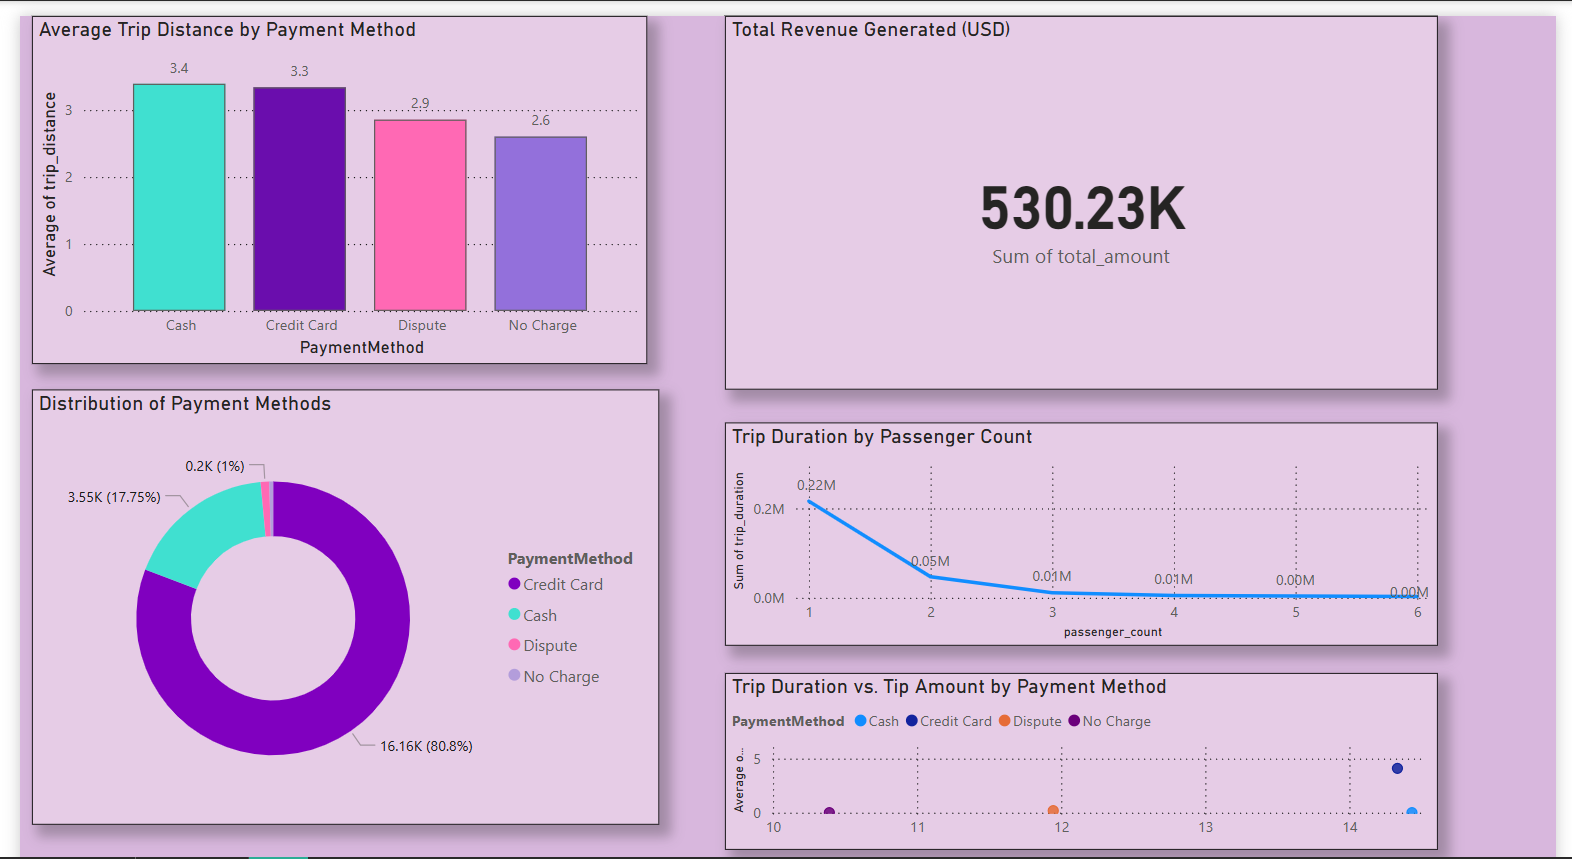

The page's visual inventory and layout, read from the dashboard file:
{"tool":"powerbi","page":{"name":"Page 1","canvas":[1280,720],"ordinal":0},"visuals":[{"type":"clusteredColumnChart","title":"Average Trip Distance by Payment Method","fields":{"Category":["dim_payment_type.PaymentMethod"],"Y":["Avg(public nyc_taxi_trips.trip_distance)"]},"box":[10,0,512.5,290],"z":0},{"type":"donutChart","title":"Distribution of Payment Methods","fields":{"Category":["dim_payment_type.PaymentMethod"],"Y":["CountNonNull(public nyc_taxi_trips.payment_type)"]},"box":[10,311.2,522.5,362.5],"z":1000},{"type":"lineChart","title":"Trip Duration by Passenger Count","fields":{"Category":["public nyc_taxi_trips.passenger_count"],"Y":["Sum(public nyc_taxi_trips.trip_duration)"]},"box":[587.5,338.8,593.8,186.2],"z":2000},{"type":"scatterChart","title":"Trip Duration vs. Tip Amount by Payment Method","fields":{"Y":["Avg(public nyc_taxi_trips.tip_amount)"],"X":["Avg(public nyc_taxi_trips.trip_duration)"],"Series":["dim_payment_type.PaymentMethod"]},"box":[587.5,547.5,593.8,147.5],"z":3000},{"type":"card","title":"Total Revenue Generated (USD)","fields":{"Values":["Sum(public nyc_taxi_trips.total_amount)"]},"box":[587.5,0,593.8,311.2],"z":4000}]}

Visuals, with their boxes in screenshot pixels (x1, y1, x2, y2), scaled from the page's 1280x720 canvas onto the 1572x859 screenshot:
"Average Trip Distance by Payment Method" clusteredColumnChart: BBox(12, 0, 642, 346)
"Distribution of Payment Methods" donutChart: BBox(12, 371, 654, 804)
"Trip Duration by Passenger Count" lineChart: BBox(722, 404, 1451, 626)
"Trip Duration vs. Tip Amount by Payment Method" scatterChart: BBox(722, 653, 1451, 829)
"Total Revenue Generated (USD)" card: BBox(722, 0, 1451, 371)
